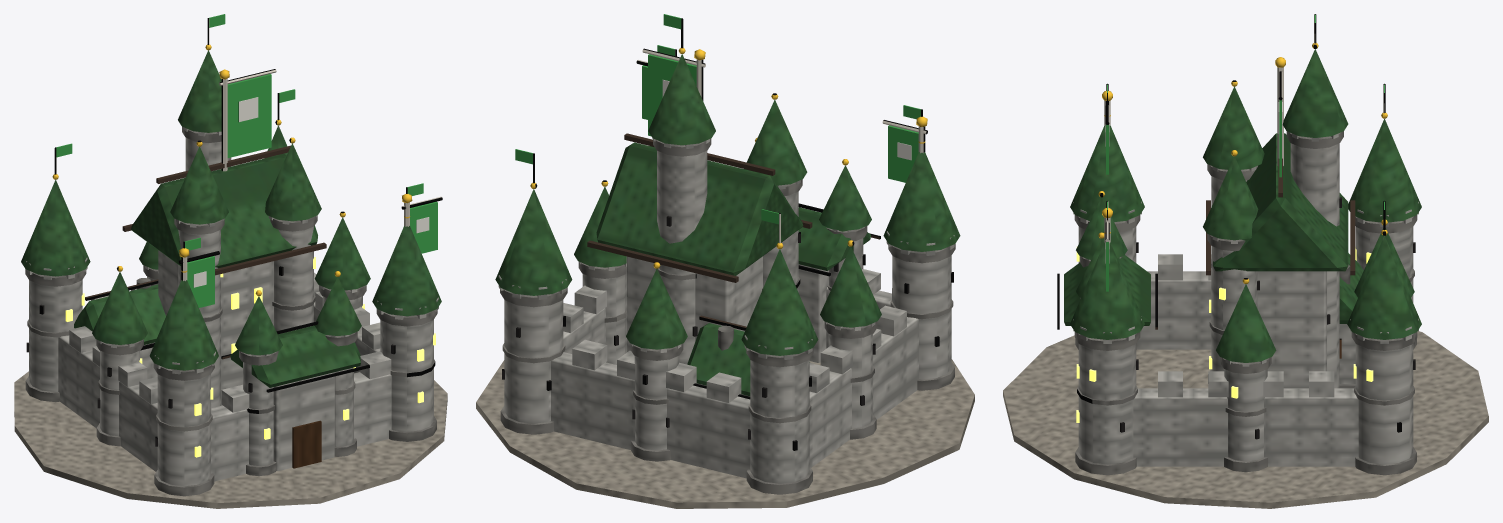
File: residence_dl4_green.glb
The picture shows the model from 3 angles, left to right: view 1: azimuth 30°, elevation 25°; view 2: azimuth 150°, elevation 25°; view 3: azimuth 270°, elevation 25°; orthographic projection. The views are drawn at different scales.
Parts seen in each view (by area): view 1: residence_dl4_green; view 2: residence_dl4_green; view 3: residence_dl4_green.
Part boxes in pixels (x1=…): residence_dl4_green: x1=14, y1=14, x2=447, y2=508; residence_dl4_green: x1=476, y1=14, x2=974, y2=508; residence_dl4_green: x1=1003, y1=14, x2=1488, y2=508.
Size of the model in its own units: 1.67 by 1.53 by 1.68.
Materials: 2 (1 with a texture image).
